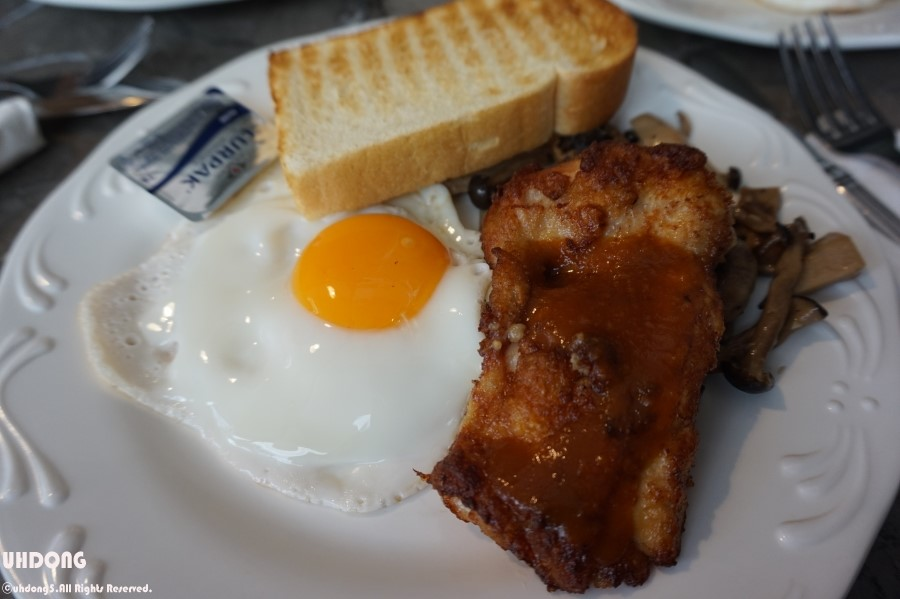fried egg: (198, 213, 466, 488)
slice of bread: (268, 33, 659, 172)
